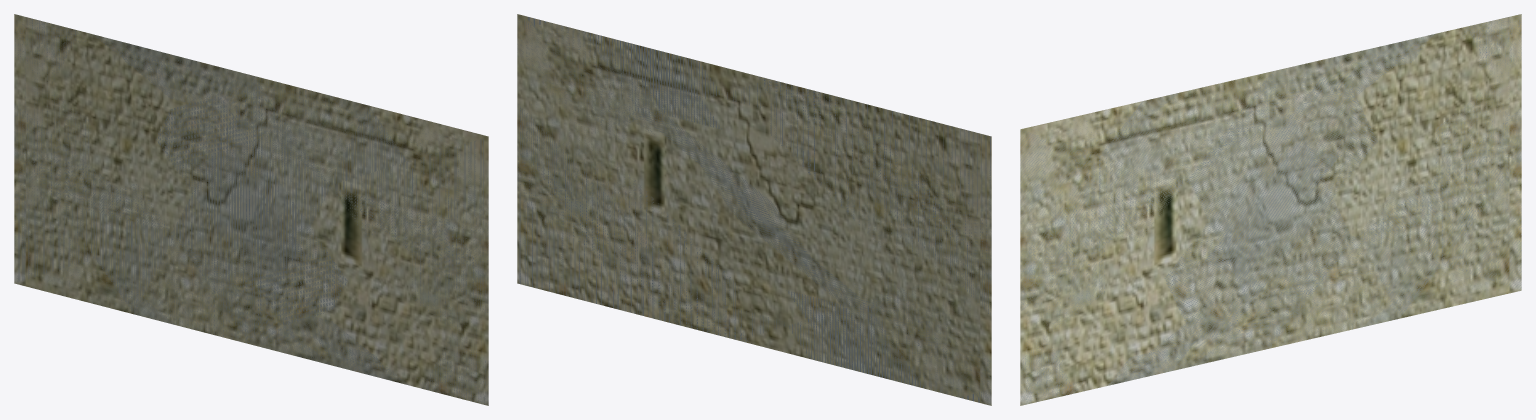
File: 西庸城堡174.dae
The picture shows the model from 3 angles, left to right: view 1: azimuth 30°, elevation 25°; view 2: azimuth 210°, elevation 25°; view 3: azimuth 270°, elevation 25°; orthographic projection. The views are drawn at different scales.
Visible parts, largest first — view 1: SketchUp; view 2: SketchUp; view 3: SketchUp.
Boxes of the visible parts, <box> form: SketchUp: <box>14,14,488,405</box>; SketchUp: <box>517,14,991,405</box>; SketchUp: <box>1020,14,1521,405</box>.
Bounding box in the file's own units: 271 × 498 × 304.
